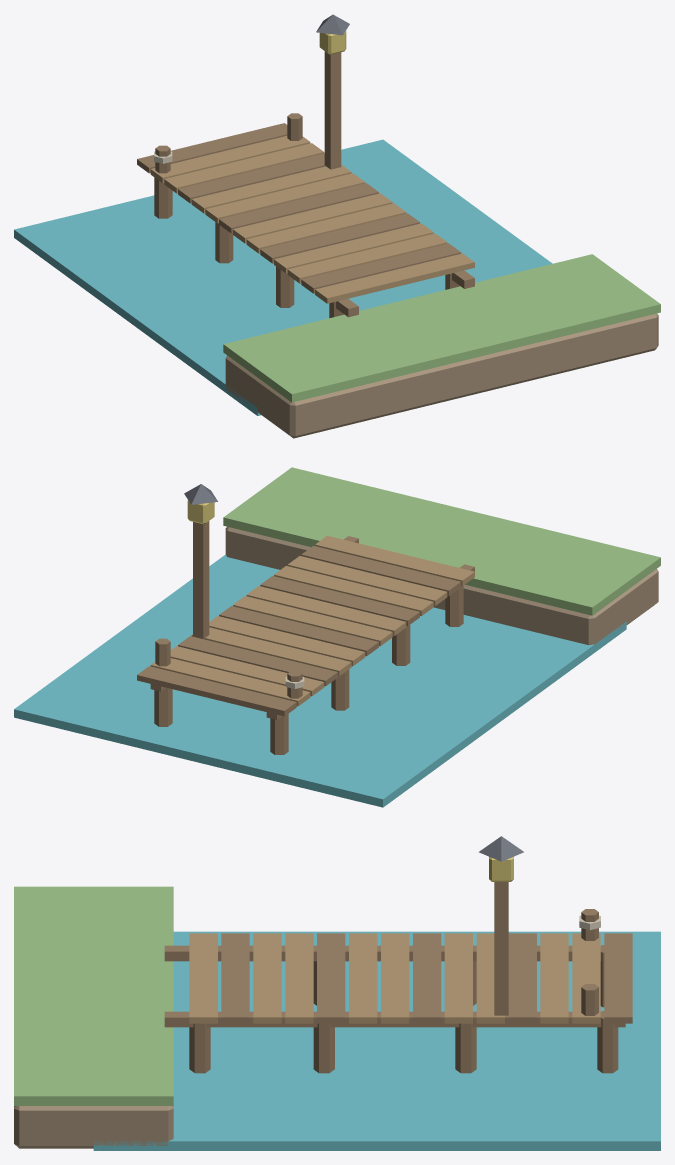
The model's file is beira_rio__trapiche.glb.
3 renders of one model, top to bottom at view 1: azimuth 30°, elevation 25°; view 2: azimuth 150°, elevation 25°; view 3: azimuth 270°, elevation 25°, orthographic. The views are drawn at different scales.
Visible parts, largest first — view 1: beira_rio__trapiche; view 2: beira_rio__trapiche; view 3: beira_rio__trapiche.
Part boxes in pixels (left/top/right/bottom): beira_rio__trapiche: left=14, top=14, right=660, bottom=438; beira_rio__trapiche: left=14, top=467, right=660, bottom=807; beira_rio__trapiche: left=14, top=836, right=660, bottom=1150.
Bounding box in the file's own units: 1.4 × 0.77 × 1.83.
